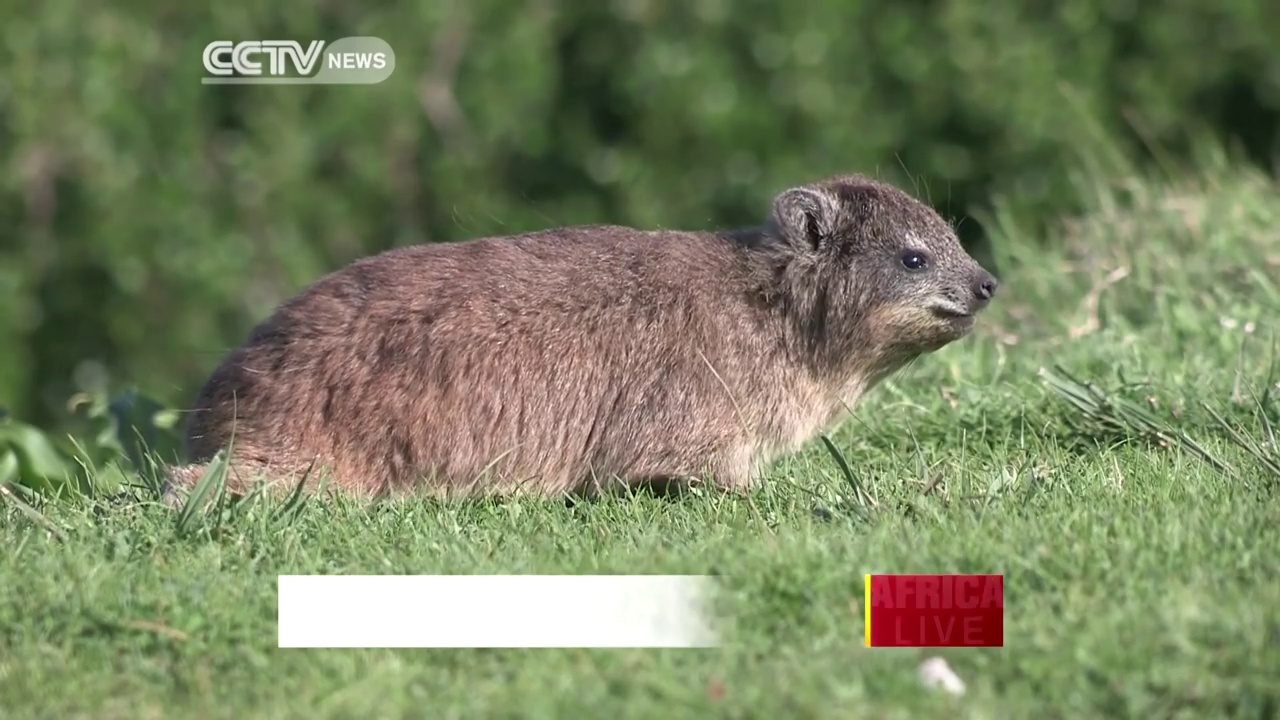Rock Hyrex: (157, 171, 997, 516)
